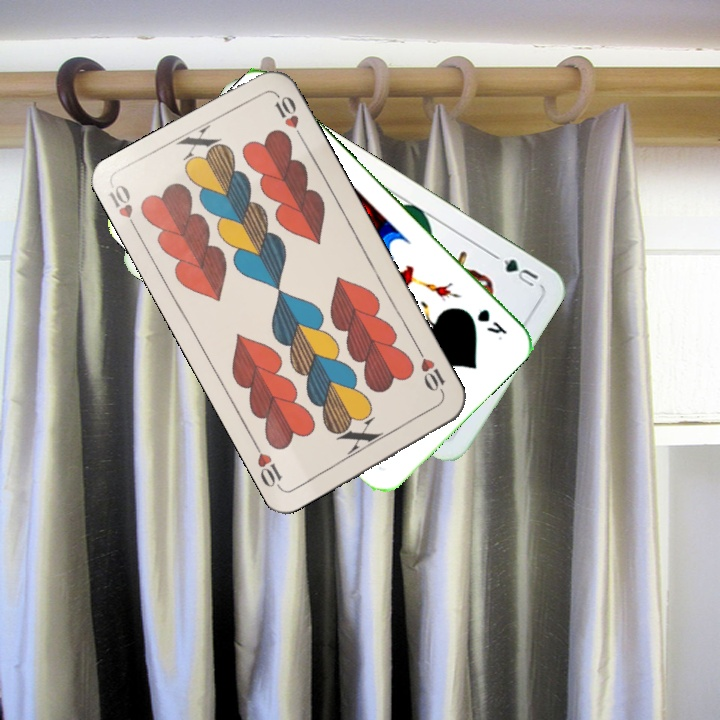GK: (473, 305, 510, 337)
GU: (499, 254, 541, 291)
H10: (104, 180, 142, 237), (413, 345, 448, 400)
